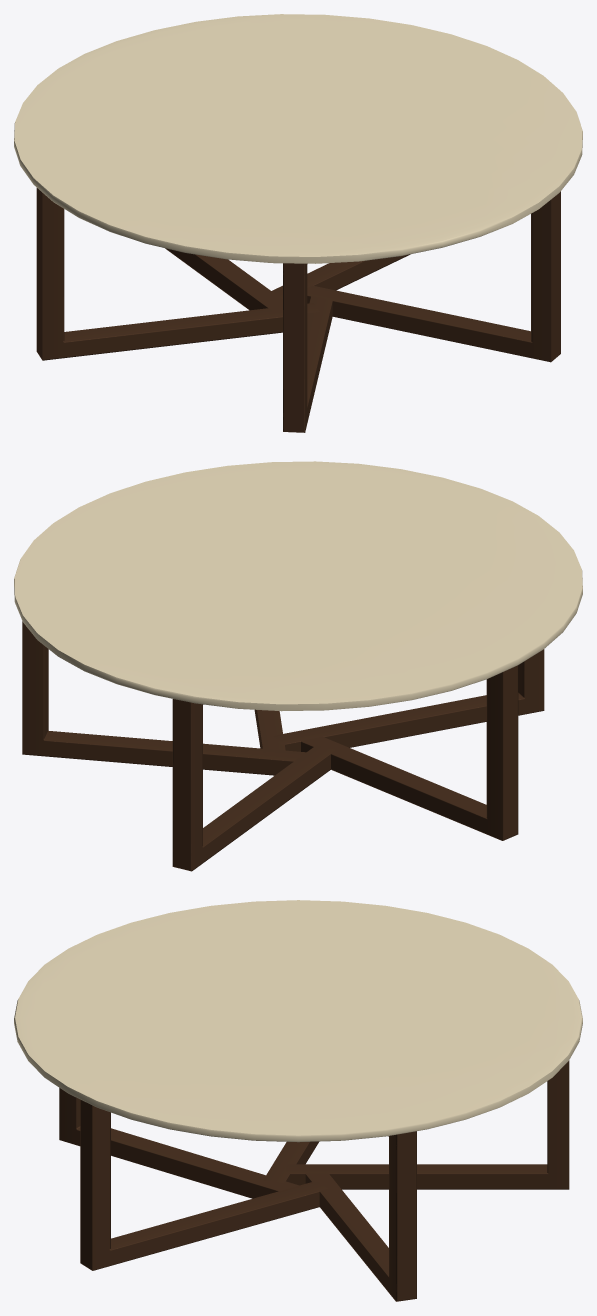
Rendered from MSH_Lobby2_Mesa.fbx.
The picture shows the model from 3 angles, top to bottom: view 1: azimuth 30°, elevation 25°; view 2: azimuth 150°, elevation 25°; view 3: azimuth 270°, elevation 25°; orthographic projection.
Visible parts, largest first — view 1: MSH_Lobby2_Mesa; view 2: MSH_Lobby2_Mesa; view 3: MSH_Lobby2_Mesa.
Boxes of the visible parts, left/top/right/bottom form: MSH_Lobby2_Mesa: left=14, top=14, right=582, bottom=432; MSH_Lobby2_Mesa: left=14, top=461, right=582, bottom=871; MSH_Lobby2_Mesa: left=14, top=900, right=582, bottom=1301.
Bounding box in the file's own units: 92.45 × 32.5 × 94.22.
